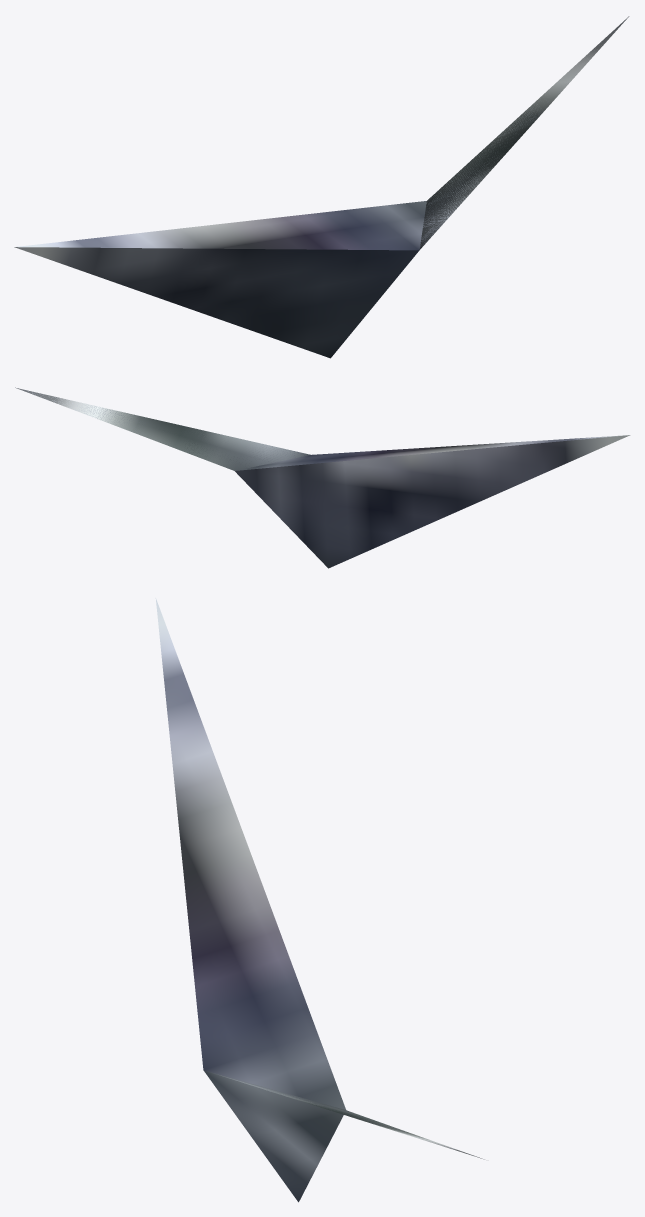
3 renders of one model, top to bottom at view 1: azimuth 30°, elevation 25°; view 2: azimuth 150°, elevation 25°; view 3: azimuth 270°, elevation 25°, orthographic. The views are drawn at different scales.
Parts seen in each view (by area): view 1: 30436272704361506724_0; view 2: 30436272704361506724_0; view 3: 30436272704361506724_0.
Boxes of the visible parts, bbox=[...] form: 30436272704361506724_0: bbox=[14, 16, 629, 358]; 30436272704361506724_0: bbox=[15, 387, 630, 568]; 30436272704361506724_0: bbox=[155, 598, 484, 1202].
Bounding box in the file's own units: 3.99 × 1.23 × 1.08.
1 material, 1 textured.
